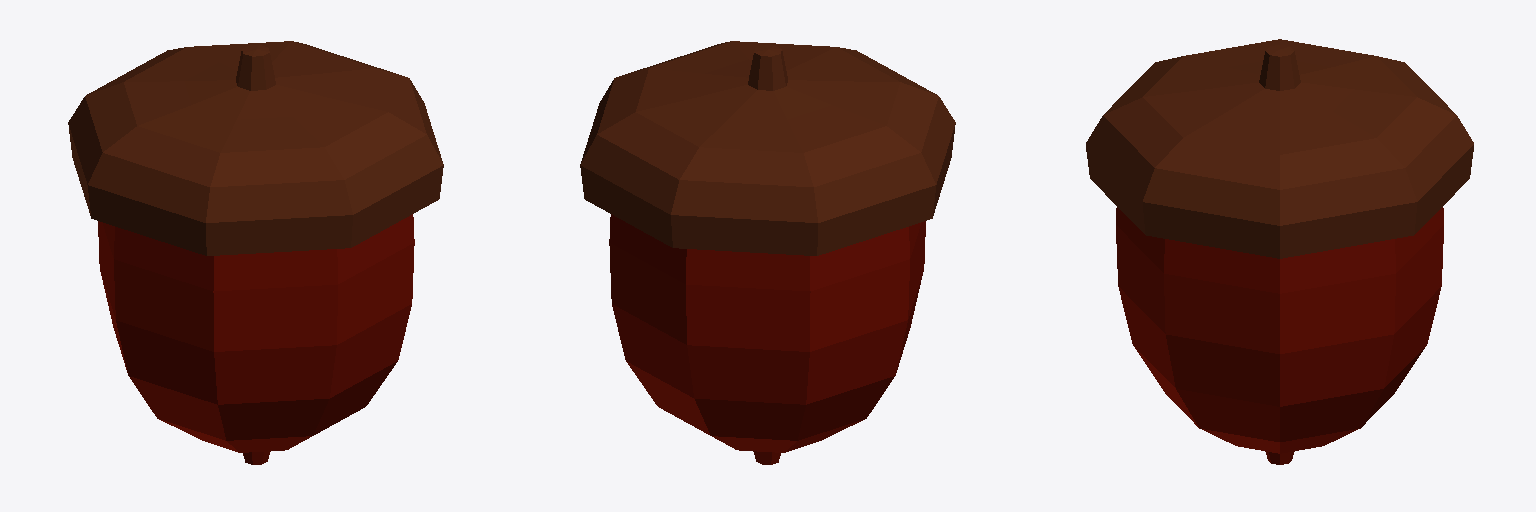
The model's file is acorn.obj.
3 views of the same model, side by side, from view 1: azimuth 30°, elevation 25°; view 2: azimuth 150°, elevation 25°; view 3: azimuth 270°, elevation 25° (orthographic).
Bounding box in the file's own units: 2.41 × 2.82 × 2.41.